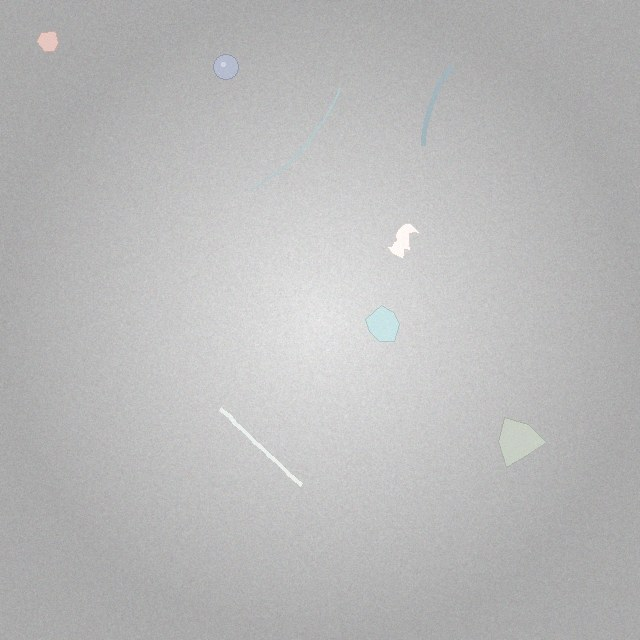fiber: (252, 86, 342, 191), (216, 404, 306, 489), (418, 61, 456, 151)
film: (386, 223, 420, 259)
fragment: (498, 417, 546, 467), (366, 306, 400, 341), (37, 31, 59, 52)
pellet: (213, 54, 239, 80)
